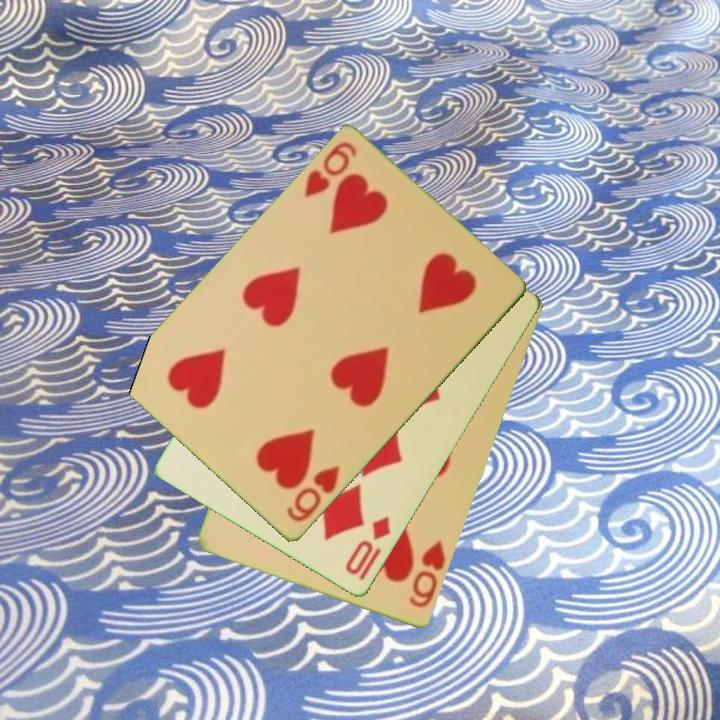10d: (341, 513, 394, 579)
6h: (283, 462, 343, 526), (300, 139, 360, 201), (406, 537, 449, 612)
